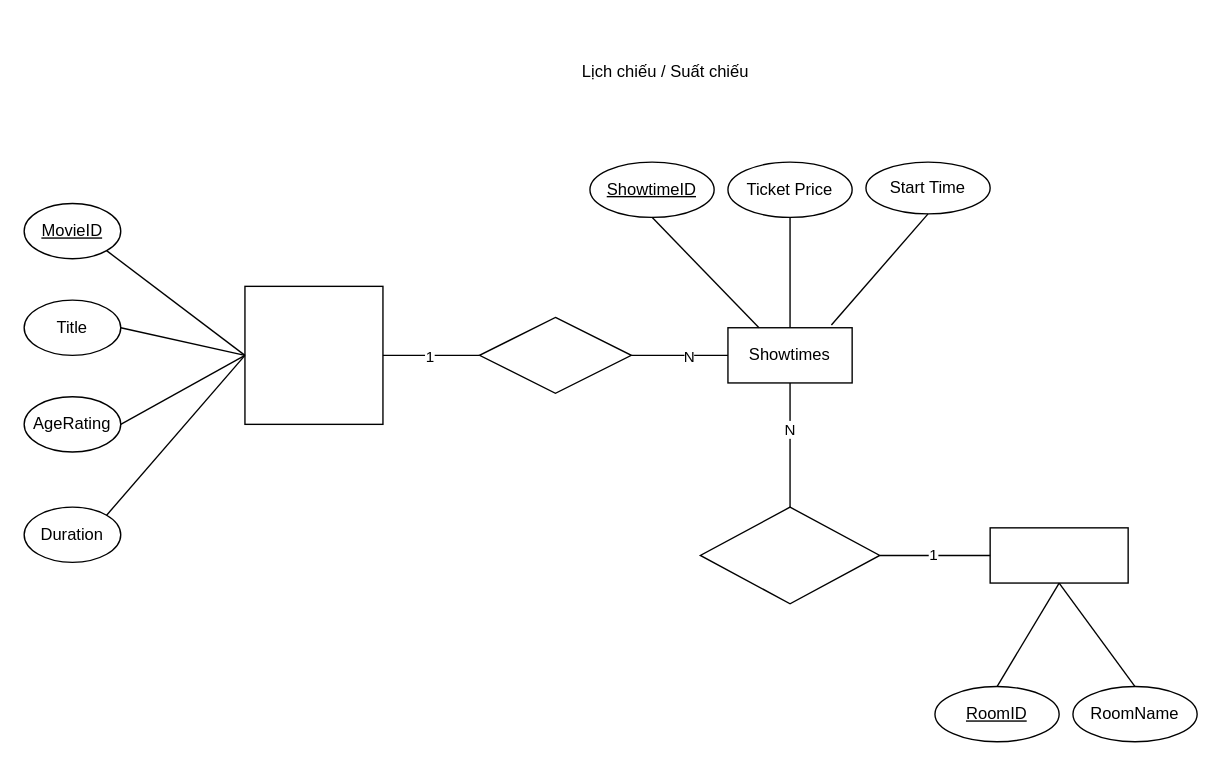
This 1221x766 diagram has some shape labels left out. The shapes that lost their labels are listed below. From the top down, each one's box as (x1, y1, x2, y2) in pixels, then its label:
(244, 285, 383, 424): Movie
(478, 316, 631, 393): Phim được chiếu
(699, 506, 880, 604): Phòng được chiếu
(989, 526, 1128, 583): Rooms
